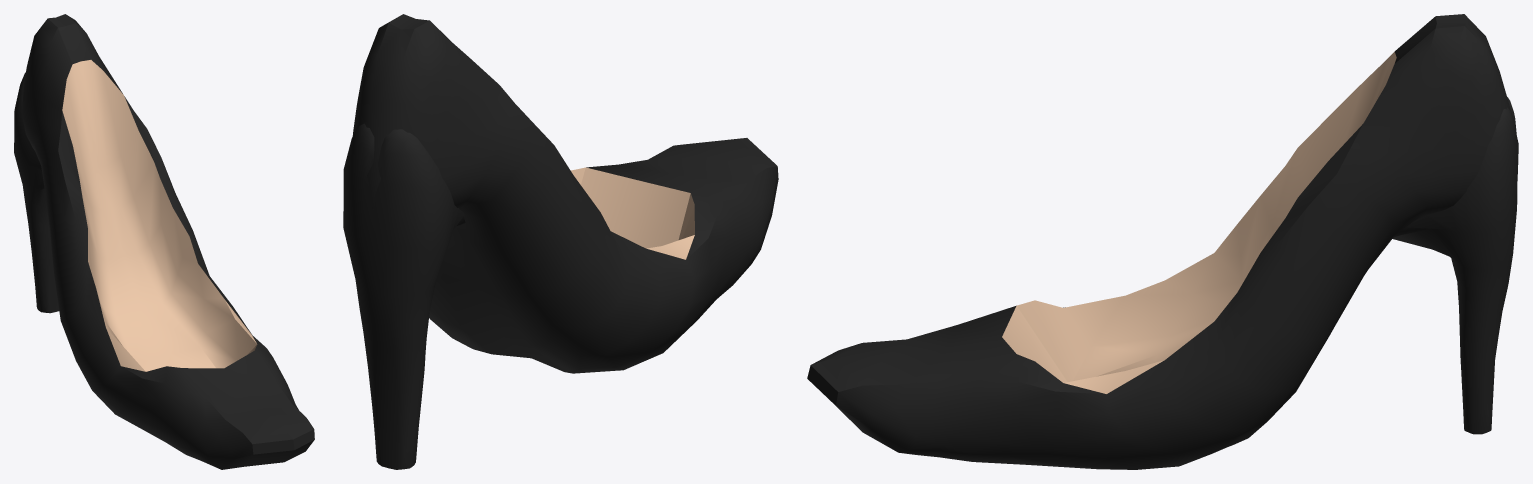
Rendered from Heel.fbx.
The picture shows the model from 3 angles, left to right: view 1: azimuth 30°, elevation 25°; view 2: azimuth 150°, elevation 25°; view 3: azimuth 270°, elevation 25°; orthographic projection. The views are drawn at different scales.
Visible parts, largest first — view 1: Cube.002; view 2: Cube.002; view 3: Cube.002.
Part boxes in pixels (x1,y1,x2,y2): Cube.002: [14, 14, 314, 469]; Cube.002: [343, 14, 778, 469]; Cube.002: [807, 14, 1518, 469].
Bounding box in the file's own units: 61.43 × 118 × 181.
